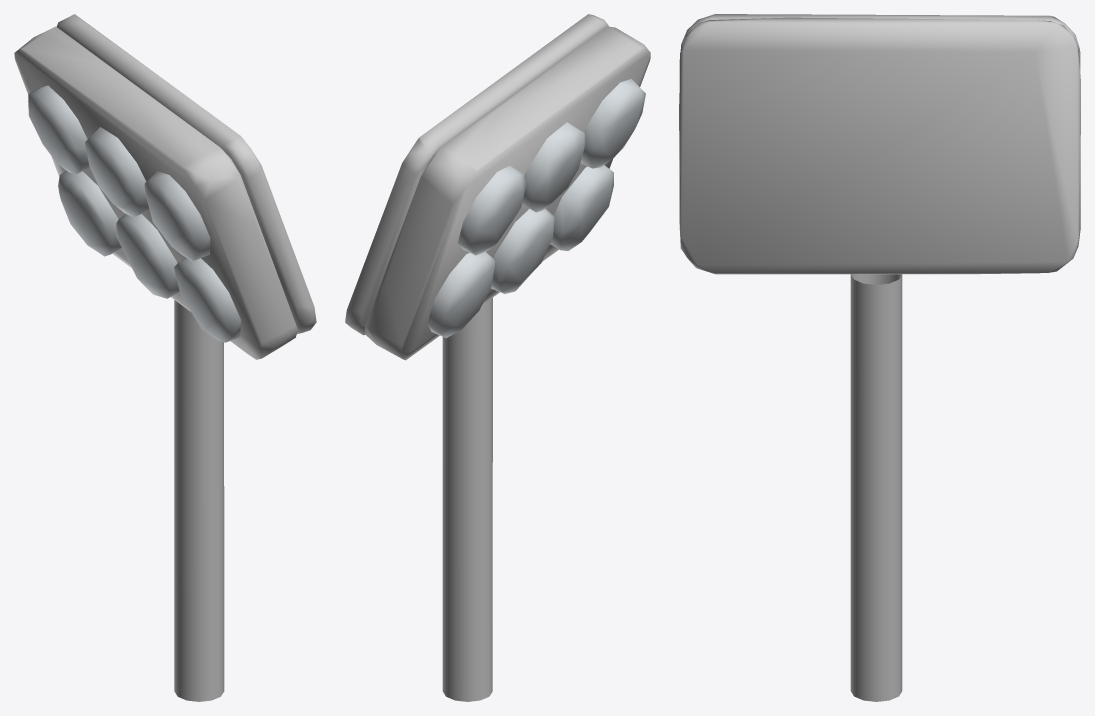
The model's file is Light.fbx.
The picture shows the model from 3 angles, left to right: view 1: azimuth 30°, elevation 25°; view 2: azimuth 150°, elevation 25°; view 3: azimuth 270°, elevation 25°; orthographic projection. The views are drawn at different scales.
Visible parts, largest first — view 1: light; view 2: light; view 3: light.
Boxes of the visible parts, x1,y1,x2,y2 form: light: [14, 14, 316, 701]; light: [345, 14, 650, 701]; light: [679, 14, 1080, 701].
Bounding box in the file's own units: 70.75 × 126 × 28.75.
